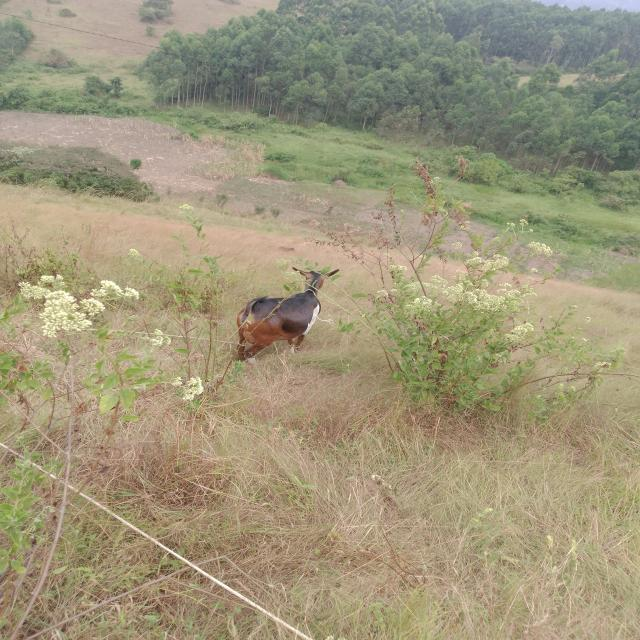goat: (202, 239, 358, 388)
